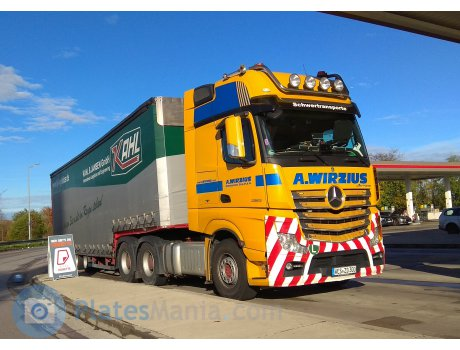License Plates: (332, 265, 356, 274)
